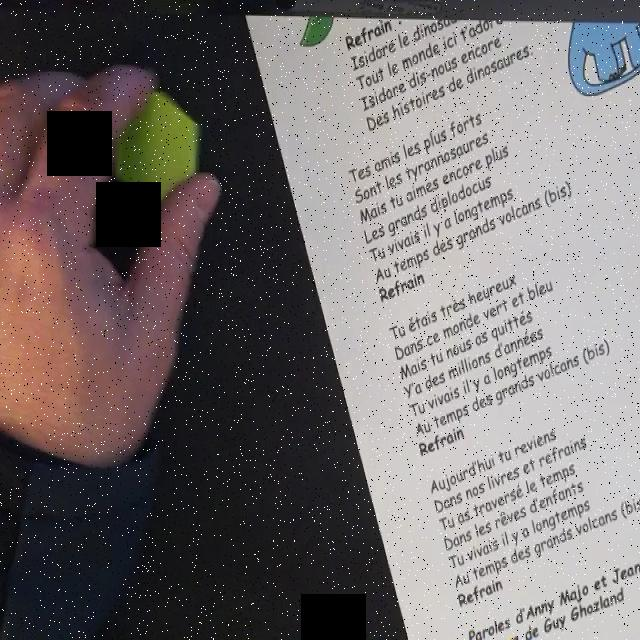hexagon: (110, 86, 200, 207)
